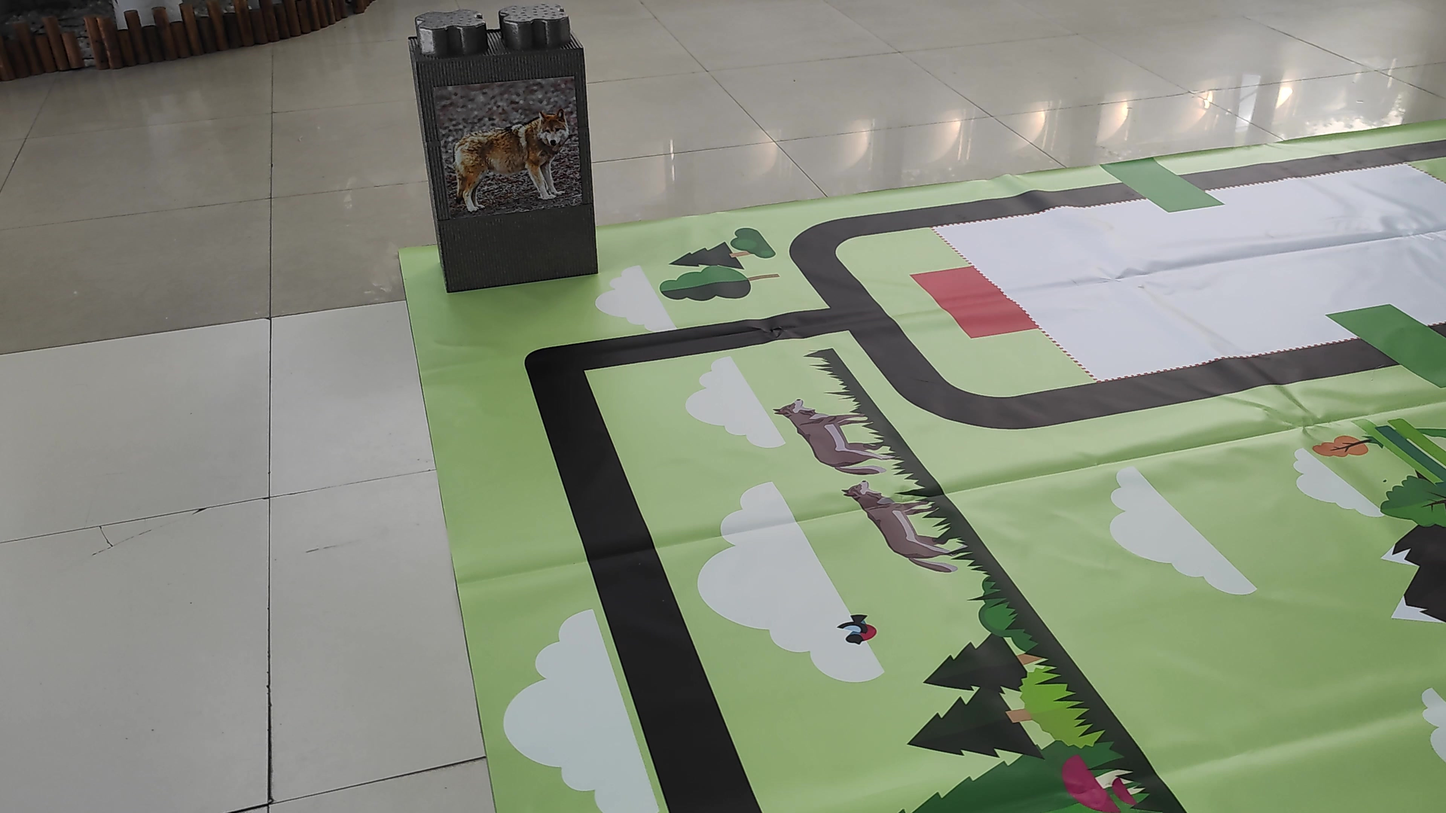wolf: (446, 99, 577, 219)
